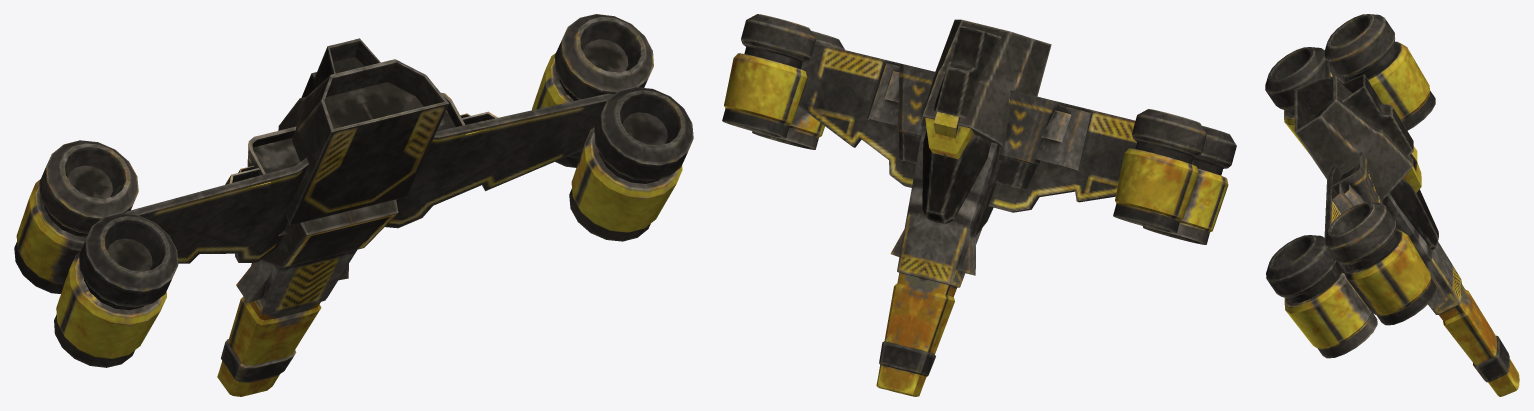
3 renders of one model, left to right at view 1: azimuth 30°, elevation 25°; view 2: azimuth 150°, elevation 25°; view 3: azimuth 270°, elevation 25°, orthographic. The views are drawn at different scales.
Parts seen in each view (by area): view 1: Spitfire; view 2: Spitfire; view 3: Spitfire.
Boxes of the visible parts, bbox=[...] form: Spitfire: bbox=[14, 14, 693, 396]; Spitfire: bbox=[722, 14, 1236, 396]; Spitfire: bbox=[1265, 14, 1519, 396].
Bounding box in the file's own units: 4861 × 2376 × 3210.
1 material, 1 textured.
